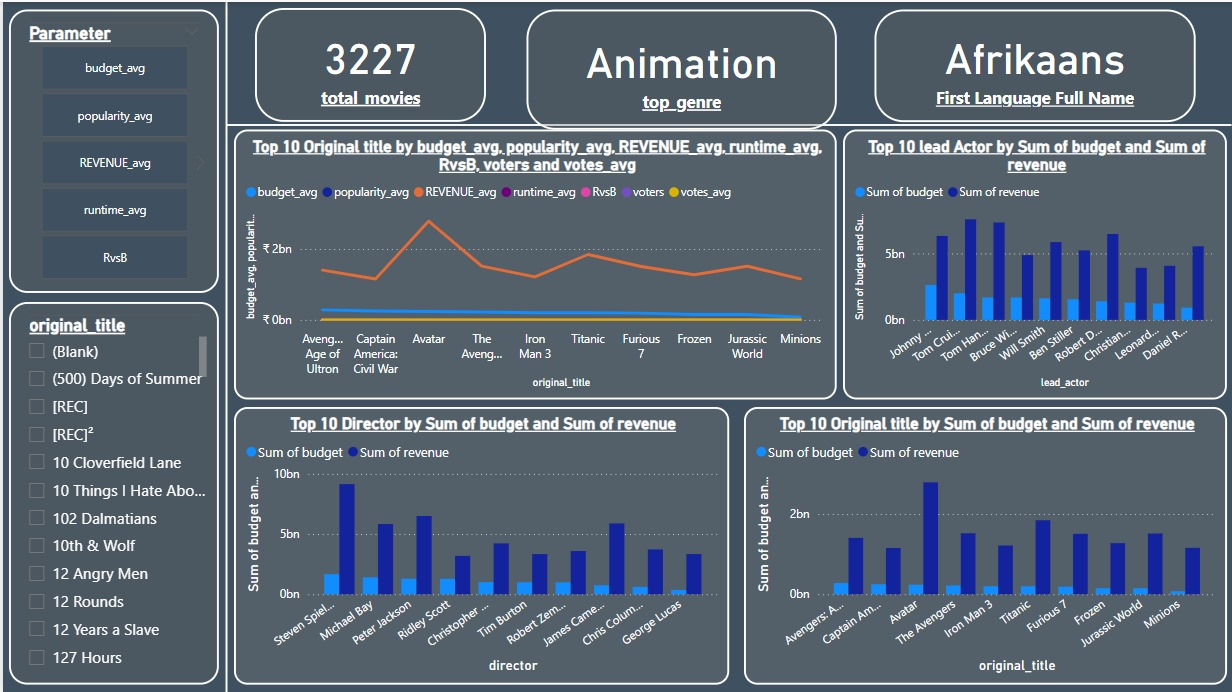

The dashboard page shown, as its layout file describes it:
{"tool":"powerbi","page":{"name":"Page 7","canvas":[1280,720],"ordinal":6},"visuals":[{"type":"shape","box":[225.1,0,15.6,720],"z":0},{"type":"slicer","fields":{"Values":["Parameter.Parameter"]},"box":[6.3,7.8,218.8,295.4],"z":1},{"type":"slicer","fields":{"Values":["movies.original_title"]},"box":[6.3,312.6,218.8,398.6],"z":2},{"type":"shape","box":[232.8,114.1,1047.2,28.1],"z":3},{"type":"card","fields":{"Values":["tables.total_movies"]},"box":[262.6,6.3,240.7,118.8],"z":4},{"type":"card","fields":{"Values":["tables.top_genre"]},"box":[545.5,7.8,323.5,125],"z":5},{"type":"card","fields":{"Values":["language_reference.Language Full Name"]},"box":[908.1,7.8,334.5,117.2],"z":6},{"type":"lineChart","title":"Top 10 Original title by budget_avg, popularity_avg, REVENUE_avg, runtime_avg, RvsB, voters and votes_avg","fields":{"Y":["tables.budget_avg","tables.popularity_avg","tables.REVENUE_avg","tables.runtime_avg","tables.RvsB","tables.voters","tables.votes_avg"],"Category":["movies.original_title"]},"box":[240.7,132.9,628.3,281.3],"z":7},{"type":"clusteredColumnChart","title":"Top 10 lead Actor by Sum of budget and Sum of revenue","fields":{"Category":["movies.lead_actor"],"Y":["movies.budget","movies.revenue"]},"box":[875.3,132.9,400.1,281.3],"z":8},{"type":"clusteredColumnChart","title":"Top 10 Director by Sum of budget and Sum of revenue","fields":{"Category":["movies.director"],"Y":["movies.budget","movies.revenue"]},"box":[240.7,422,515.8,289.2],"z":9},{"type":"clusteredColumnChart","title":"Top 10 Original title by Sum of budget and Sum of revenue","fields":{"Category":["movies.original_title"],"Y":["movies.budget","movies.revenue"]},"box":[772.1,422,503.3,289.2],"z":10}]}

Visuals, with their boxes in screenshot pixels (x1, y1, x2, y2), scaled from the page's 1280x720 canvas onto the 1232x692 screenshot:
shape: 217:0:232:691
slicer - Parameter.Parameter: 6:7:217:291
slicer - movies.original_title: 6:300:217:684
shape: 224:110:1231:137
card - tables.total_movies: 253:6:484:120
card - tables.top_genre: 525:7:836:128
card - language_reference.Language Full Name: 874:7:1196:120
"Top 10 Original title by budget_avg, popularity_avg, REVENUE_avg, runtime_avg, RvsB, voters and votes_avg" lineChart: 232:128:836:398
"Top 10 lead Actor by Sum of budget and Sum of revenue" clusteredColumnChart: 842:128:1228:398
"Top 10 Director by Sum of budget and Sum of revenue" clusteredColumnChart: 232:406:728:684
"Top 10 Original title by Sum of budget and Sum of revenue" clusteredColumnChart: 743:406:1228:684
